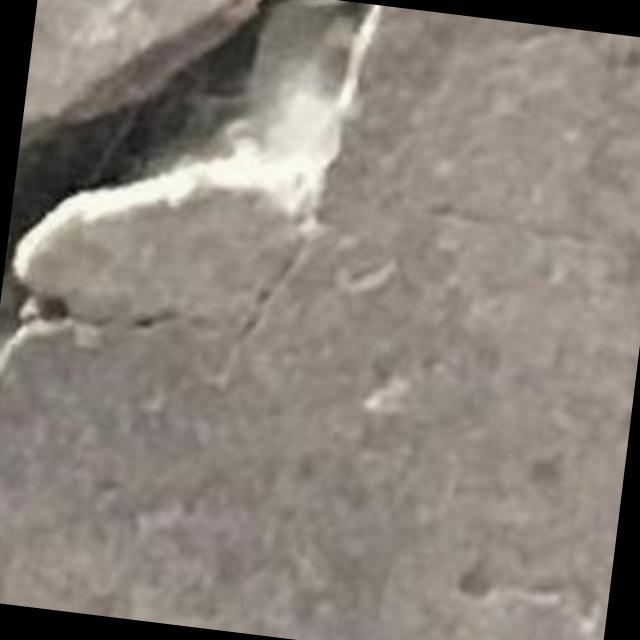crack: (0, 0, 379, 351)
